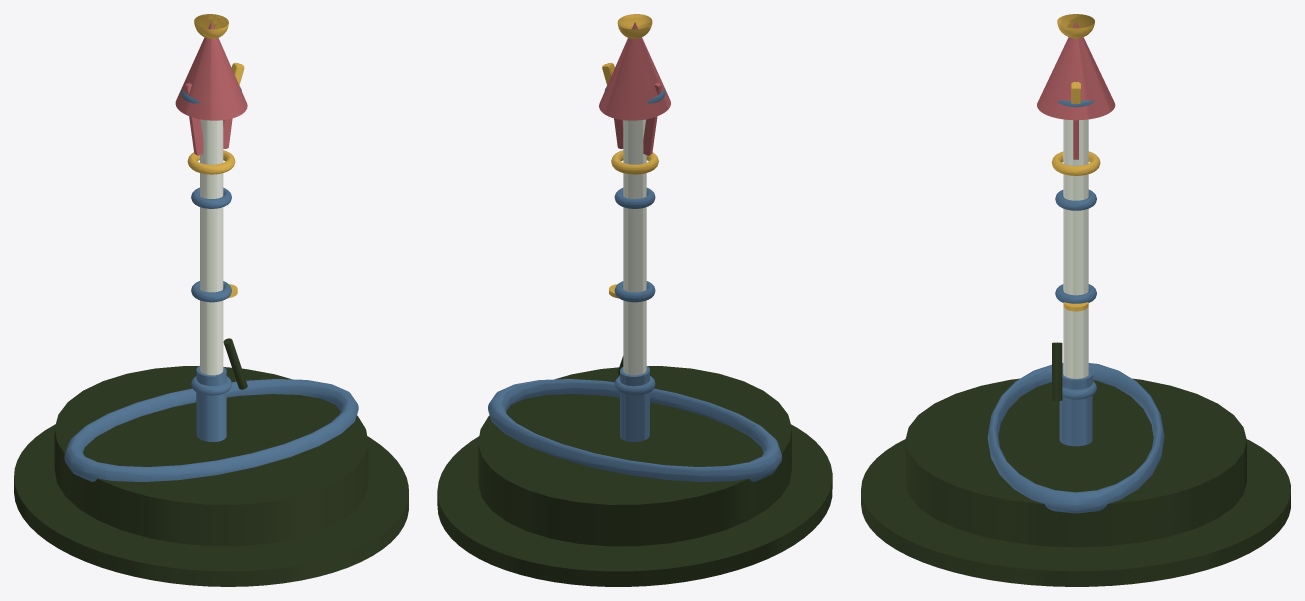
The model's file is 0659_史前人类图鉴_舒宁根长矛.glb.
3 views of the same model, side by side, from view 1: azimuth 30°, elevation 25°; view 2: azimuth 150°, elevation 25°; view 3: azimuth 270°, elevation 25° (orthographic).
Parts seen in each view (by area): view 1: card_0659; view 2: card_0659; view 3: card_0659.
Part boxes in pixels (<box>): card_0659: <box>14,14,408,586</box>; card_0659: <box>437,14,832,586</box>; card_0659: <box>861,14,1290,586</box>.
Bounding box in the file's own units: 0.7299 × 1 × 0.8057.
